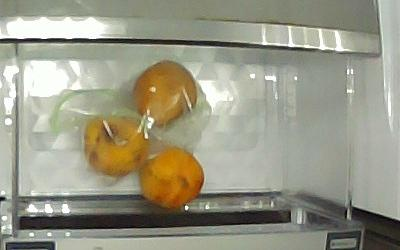peach: (140, 145, 205, 210)
peach_vinyl: (134, 61, 196, 132), (84, 117, 148, 178)
